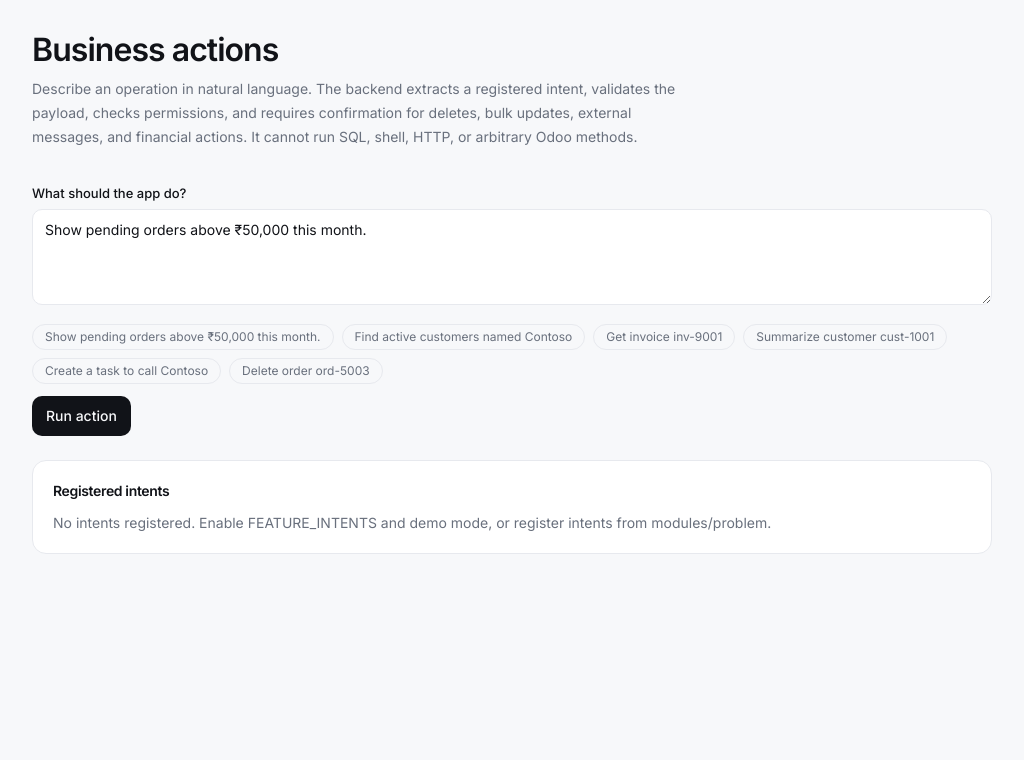
Test case: IntentsPage › confirms a high-risk action using the server-issued token
Click the button "Run action": {"x": 81, "y": 416} [32,396,131,436]
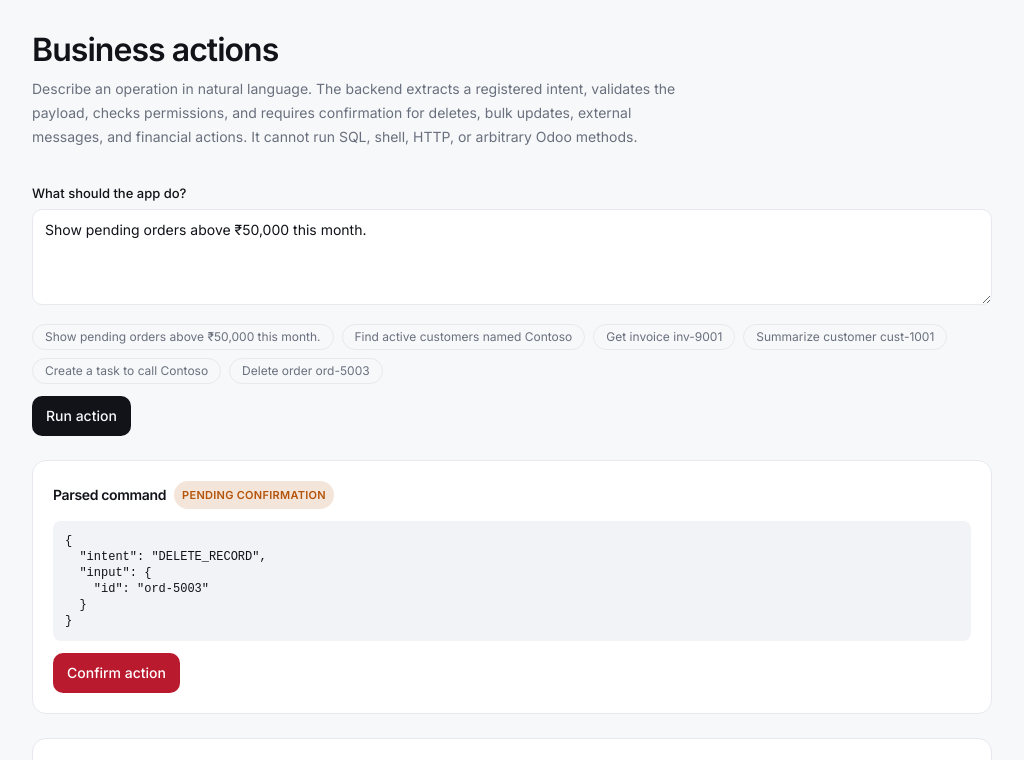
Click the button "Confirm action": {"x": 116, "y": 673} [53,653,180,693]
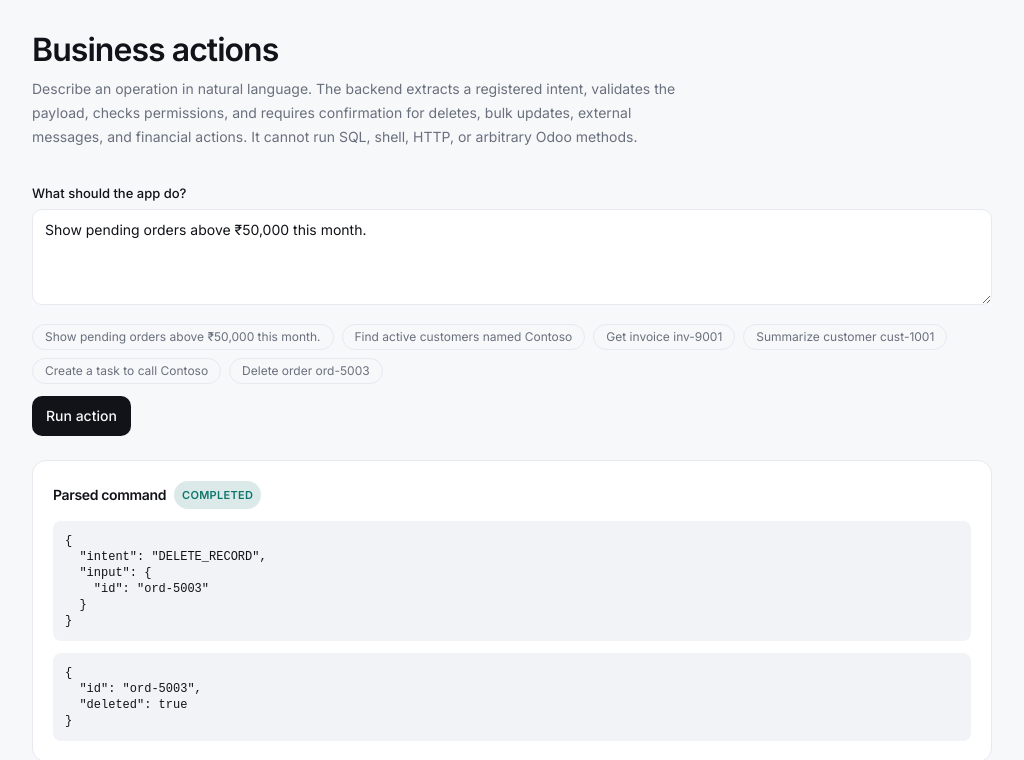
Now the text "{ \"id\": \"ord-5003\", \"deleted\": true }" is shown, box [53,653,971,741]
